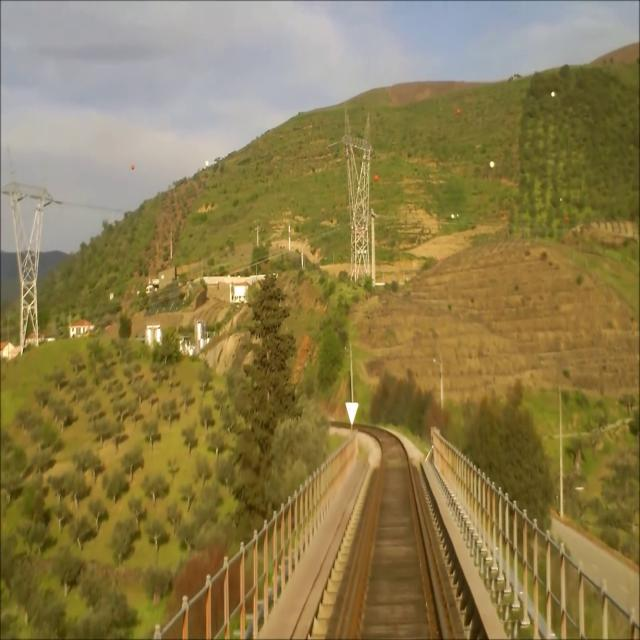rail-track: (351, 432, 439, 639)
